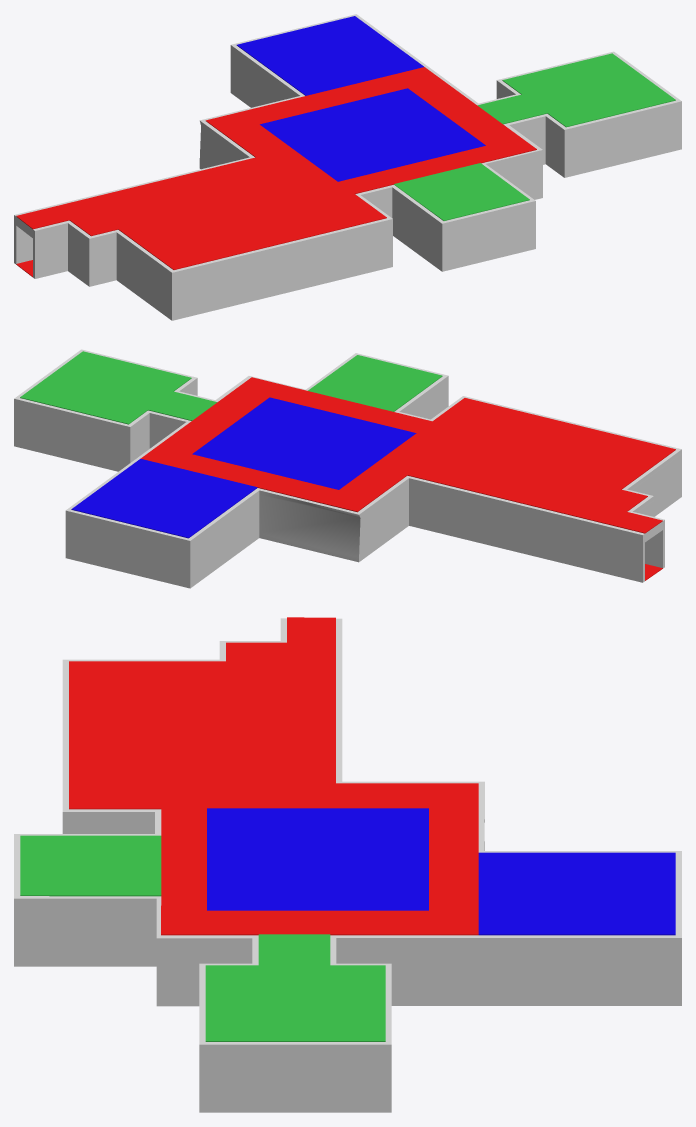
Rendered from layout v2.fbx.
The picture shows the model from 3 angles, top to bottom: view 1: azimuth 30°, elevation 25°; view 2: azimuth 150°, elevation 25°; view 3: azimuth 270°, elevation 25°; orthographic projection. The views are drawn at different scales.
Visible parts, largest first — view 1: ceiling, Walls; view 2: ceiling, Walls; view 3: ceiling, Walls.
Part boxes in pixels (x1=…): ceiling: x1=16, y1=16, x2=675, y2=269; Walls: x1=14, y1=14, x2=681, y2=320; ceiling: x1=20, y1=351, x2=675, y2=538; Walls: x1=14, y1=349, x2=681, y2=588; ceiling: x1=20, y1=617, x2=675, y2=1041; Walls: x1=14, y1=618, x2=681, y2=1112.
Size of the model in its own units: 4880 by 368 by 3231.
